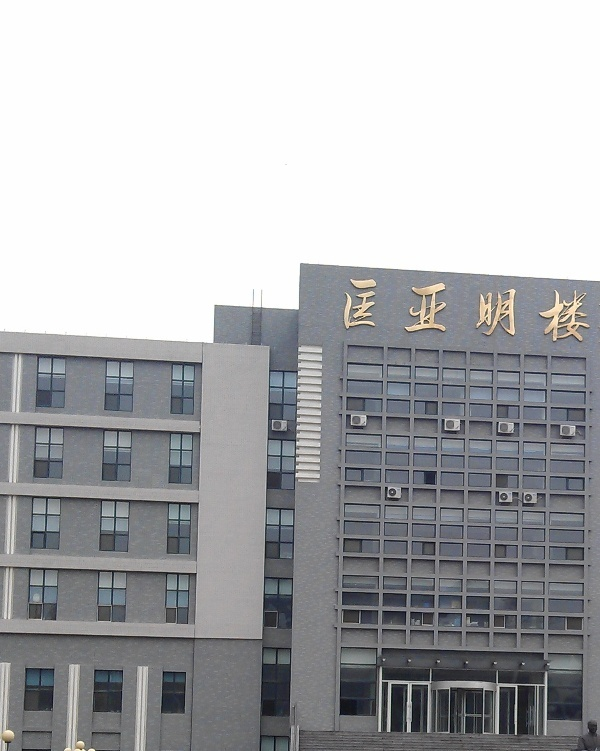text: (353, 275, 368, 346), (369, 275, 384, 346), (385, 275, 400, 346), (401, 275, 416, 346), (417, 275, 432, 346), (433, 275, 448, 346), (449, 275, 464, 346), (465, 275, 480, 346), (481, 275, 496, 346), (497, 275, 512, 346), (513, 275, 528, 346), (529, 275, 544, 346), (545, 275, 560, 346), (561, 275, 576, 346), (577, 275, 592, 346), (343, 275, 352, 346), (593, 275, 594, 346)
